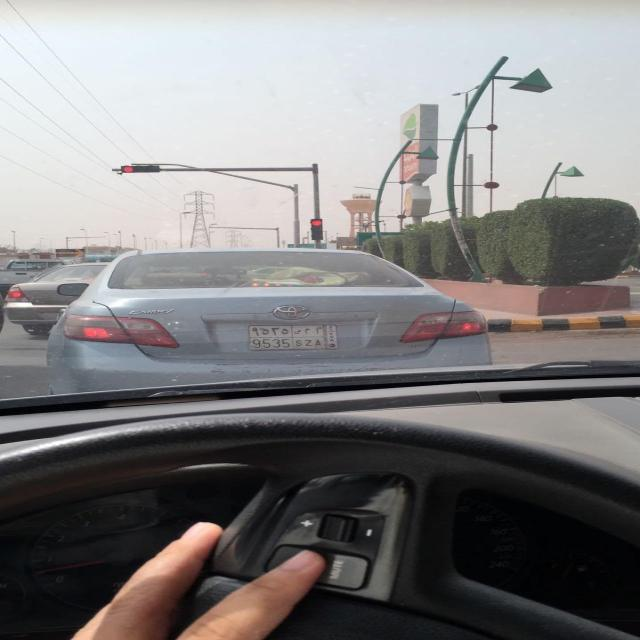license_plate: (247, 323, 338, 351)
